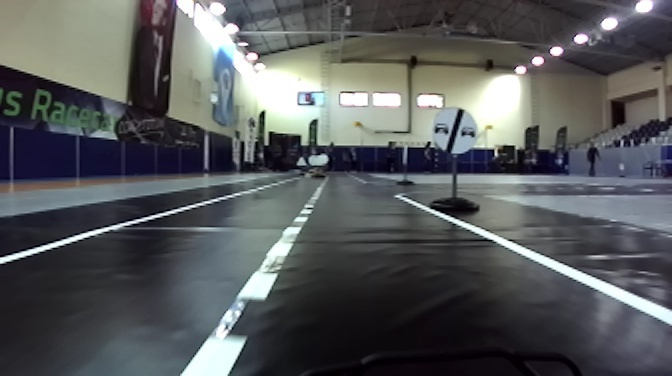sollama_serbest: (430, 105, 479, 156)
